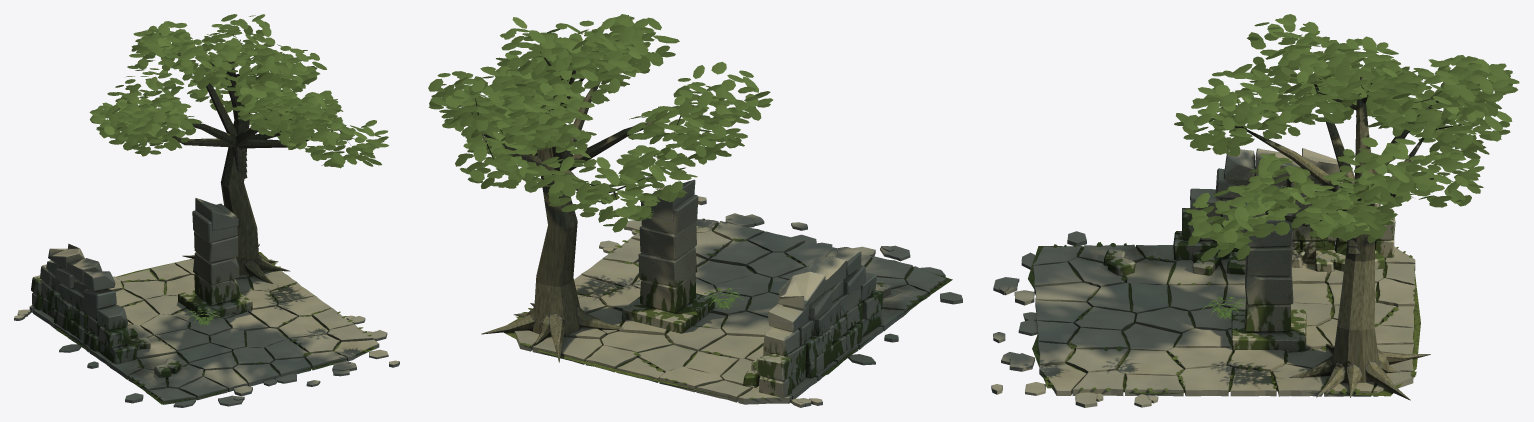
File: hub-corner.glb
3 views of the same model, side by side, from view 1: azimuth 30°, elevation 25°; view 2: azimuth 150°, elevation 25°; view 3: azimuth 270°, elevation 25° (orthographic). The views are drawn at different scales.
Parts seen in each view (by area): view 1: Corner_Paving, Corner_Foliage, Corner_Baked; view 2: Corner_Foliage, Corner_Paving, Corner_Baked; view 3: Corner_Paving, Corner_Foliage, Corner_Baked.
Boxes of the visible parts, box(x1,y1,x2,y2) form: Corner_Paving: box(14, 252, 399, 407); Corner_Foliage: box(89, 14, 389, 168); Corner_Baked: box(31, 39, 350, 378); Corner_Foliage: box(428, 14, 772, 232); Corner_Paving: box(503, 196, 962, 407); Corner_Baked: box(471, 52, 890, 397); Corner_Paving: box(991, 231, 1420, 407); Corner_Foliage: box(1174, 14, 1519, 261); Corner_Baked: box(1103, 53, 1479, 400).
Size of what is drawn, in the model's own units: 11.3 by 8.4 by 12.15.
3 materials, 2 textured.
